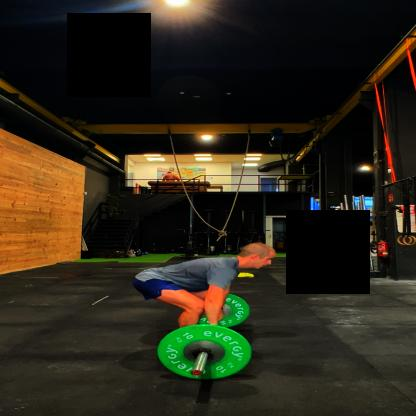barbell: (158, 326, 253, 381)
